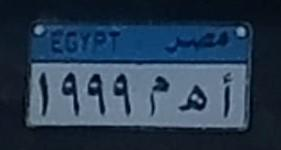1: (33, 69, 53, 117)
9: (111, 72, 136, 119), (59, 68, 83, 114), (86, 68, 108, 117)
alif: (213, 68, 242, 120)
haa: (174, 82, 210, 117)
meem: (144, 74, 172, 120)
